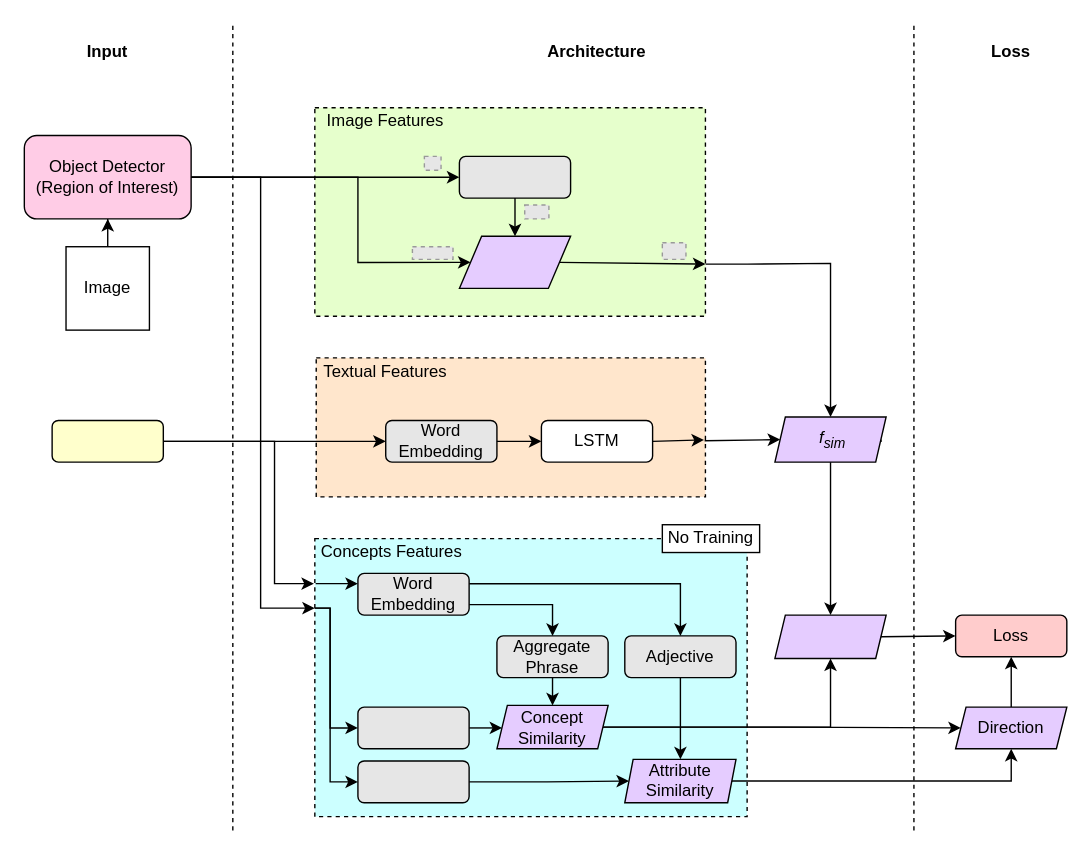
This 1091x856 diagram has some shape labels left out. Grey dashed boxes stand in for pictures. Each missing label, with the centre of its shape:
"Bounding Box Attribute" goes at point 413,781.
"Bounding Box Class" goes at point 413,727.
"f apply" goes at point 830,636.
"Fusion Operator" goes at point 514,261.
"Query" goes at point 107,440.
"Spatial Features" goes at point 514,176.
